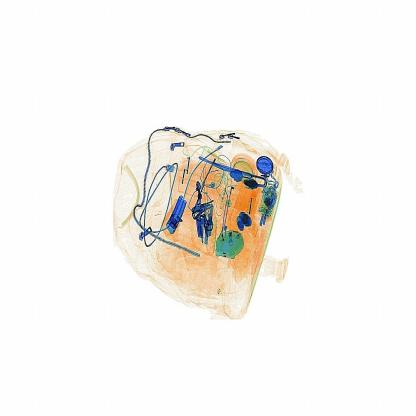pliers: (157, 193, 193, 245)
